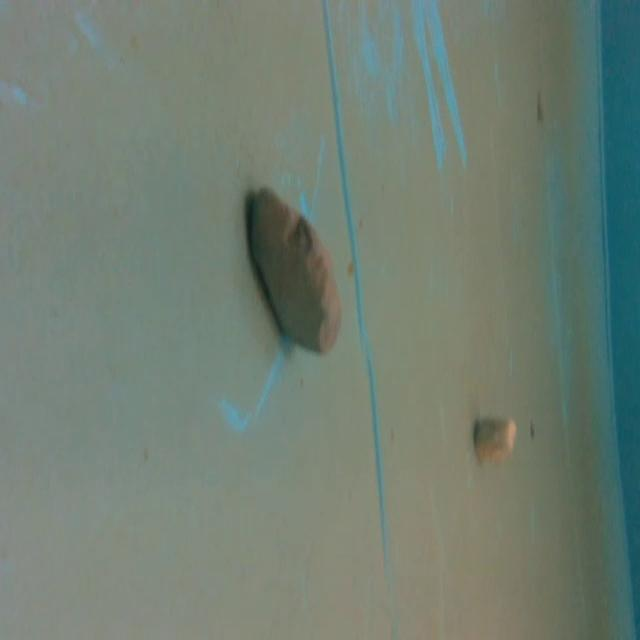rock: (242, 180, 348, 360)
